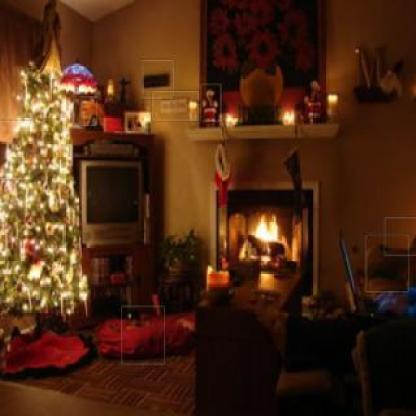Fire: (252, 198, 283, 278)
